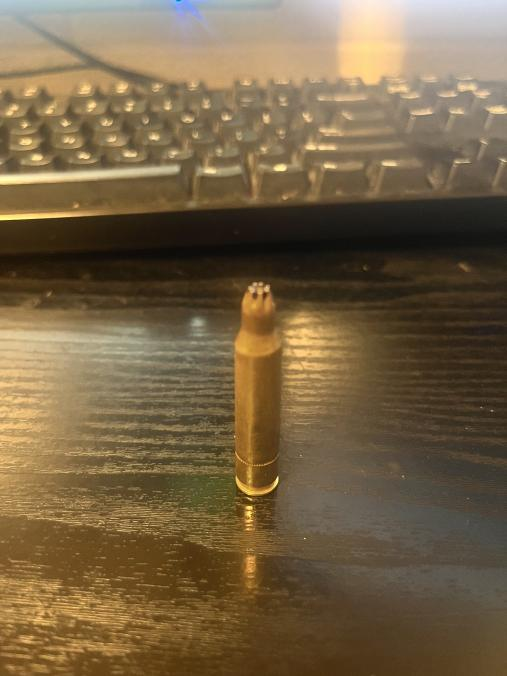556-unfired-blank: (231, 281, 284, 498)
